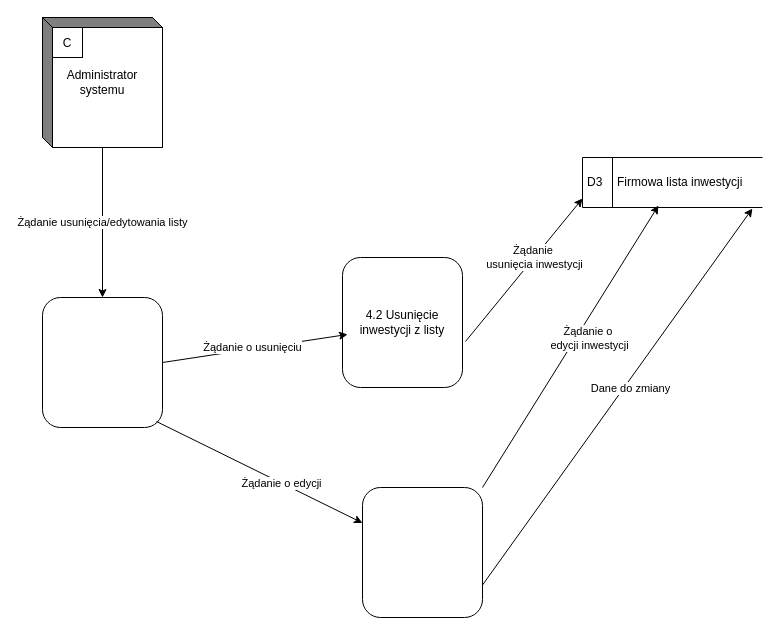
Image size: 780x635. Some labels were removed from this diagram. The box of each missing label's shape, as (x1, y1, x2, y2) in pixels:
4.1 Otrzymanie żądania o usunięciu/edytowaniu listy: (42, 296, 162, 428)
4.3 Edytowanie informacji o inwestycji: (362, 486, 482, 618)
